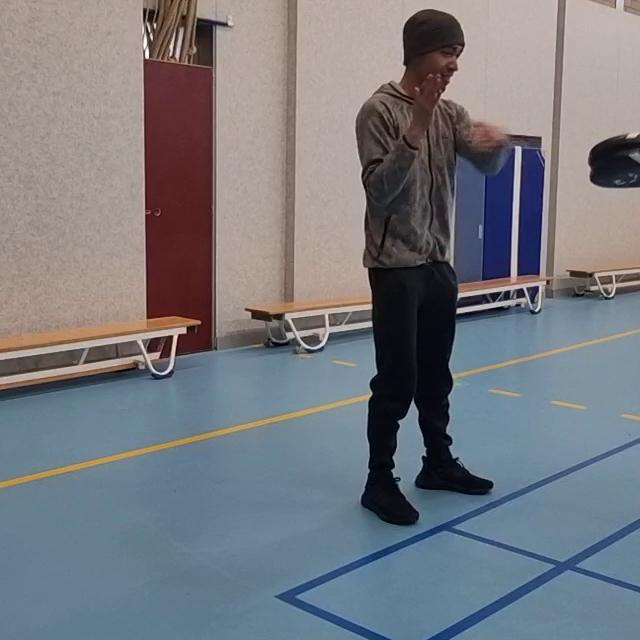paddle: (581, 122, 640, 197)
